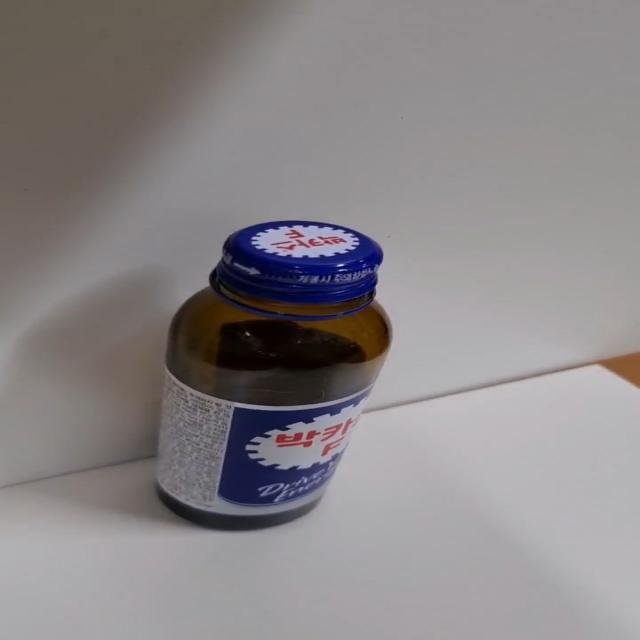Glass: (154, 220, 394, 534)
